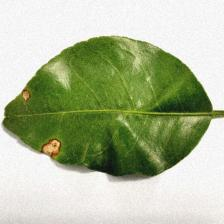canker: (13, 80, 68, 162)
